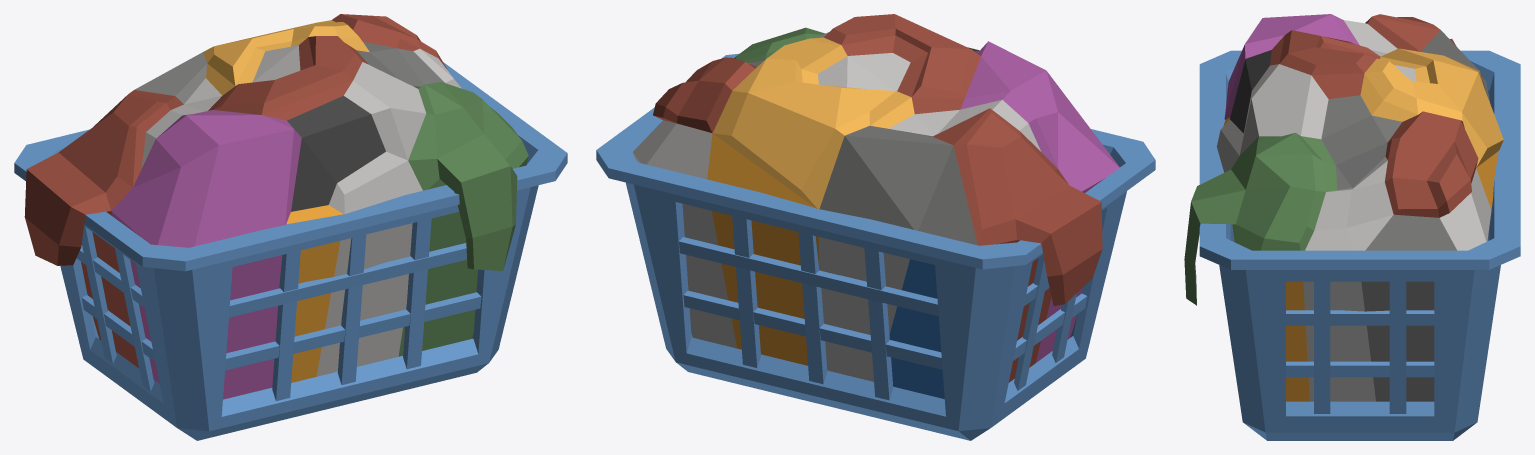
File: SM_Prop_LaundryBin_01.fbx
The picture shows the model from 3 angles, left to right: view 1: azimuth 30°, elevation 25°; view 2: azimuth 150°, elevation 25°; view 3: azimuth 270°, elevation 25°; orthographic projection.
Visible parts, largest first — view 1: SM_Prop_LaundryBin_01_Clothes, SM_Prop_LaundryBin_01; view 2: SM_Prop_LaundryBin_01_Clothes, SM_Prop_LaundryBin_01; view 3: SM_Prop_LaundryBin_01_Clothes, SM_Prop_LaundryBin_01.
Boxes of the visible parts, x1,y1,x2,y2 form: SM_Prop_LaundryBin_01_Clothes: (24, 14, 528, 399); SM_Prop_LaundryBin_01: (14, 62, 567, 440); SM_Prop_LaundryBin_01_Clothes: (633, 14, 1119, 398); SM_Prop_LaundryBin_01: (596, 53, 1155, 440); SM_Prop_LaundryBin_01_Clothes: (1184, 14, 1503, 401); SM_Prop_LaundryBin_01: (1199, 50, 1520, 440).
Size of the model in its own units: 101 by 72.19 by 66.33.
